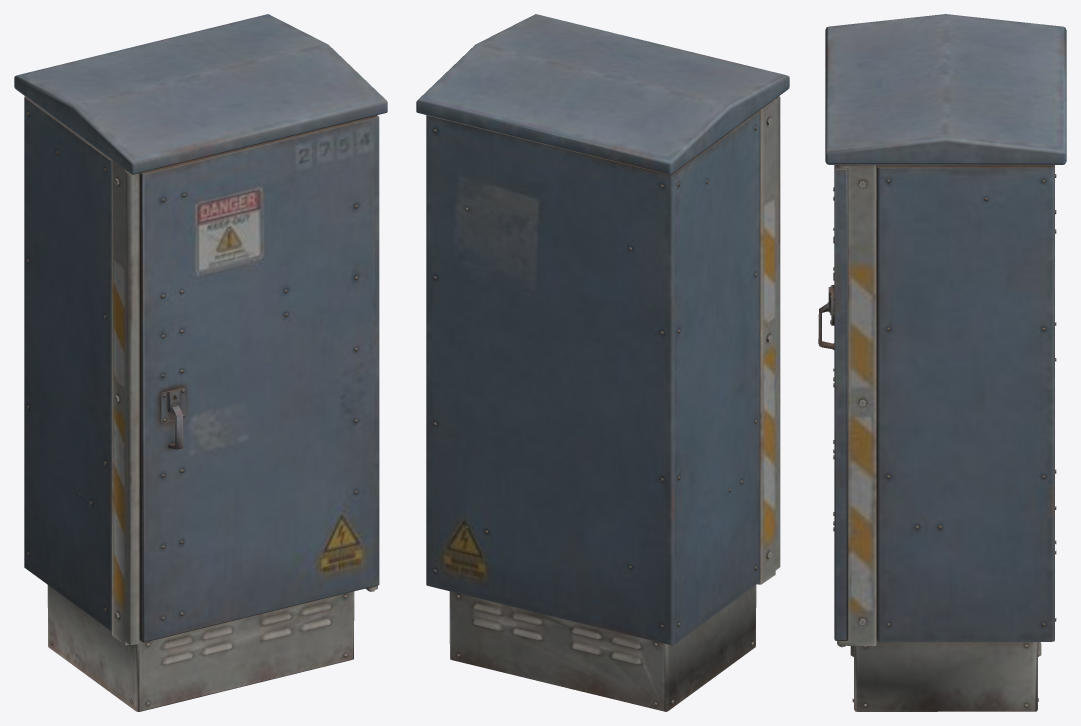
The model's file is utility_box_01.glb.
3 views of the same model, side by side, from view 1: azimuth 30°, elevation 25°; view 2: azimuth 150°, elevation 25°; view 3: azimuth 270°, elevation 25° (orthographic).
Visible parts, largest first — view 1: utility_box_01_box; view 2: utility_box_01_box; view 3: utility_box_01_box.
Part boxes in pixels (x1=…): utility_box_01_box: x1=14, y1=14, x2=387, y2=711; utility_box_01_box: x1=416, y1=14, x2=789, y2=711; utility_box_01_box: x1=818, y1=14, x2=1066, y2=711.
Size of the model in its own units: 0.52 by 1.12 by 0.432.
1 material, 1 textured.
